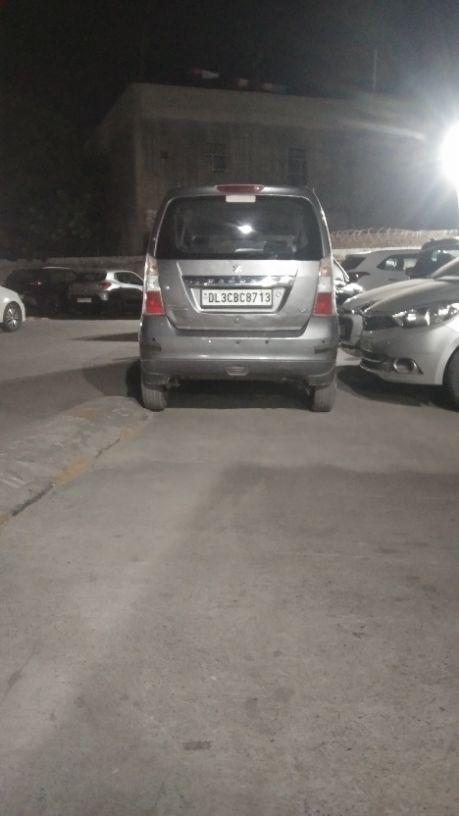license_plate: (198, 286, 273, 308)
